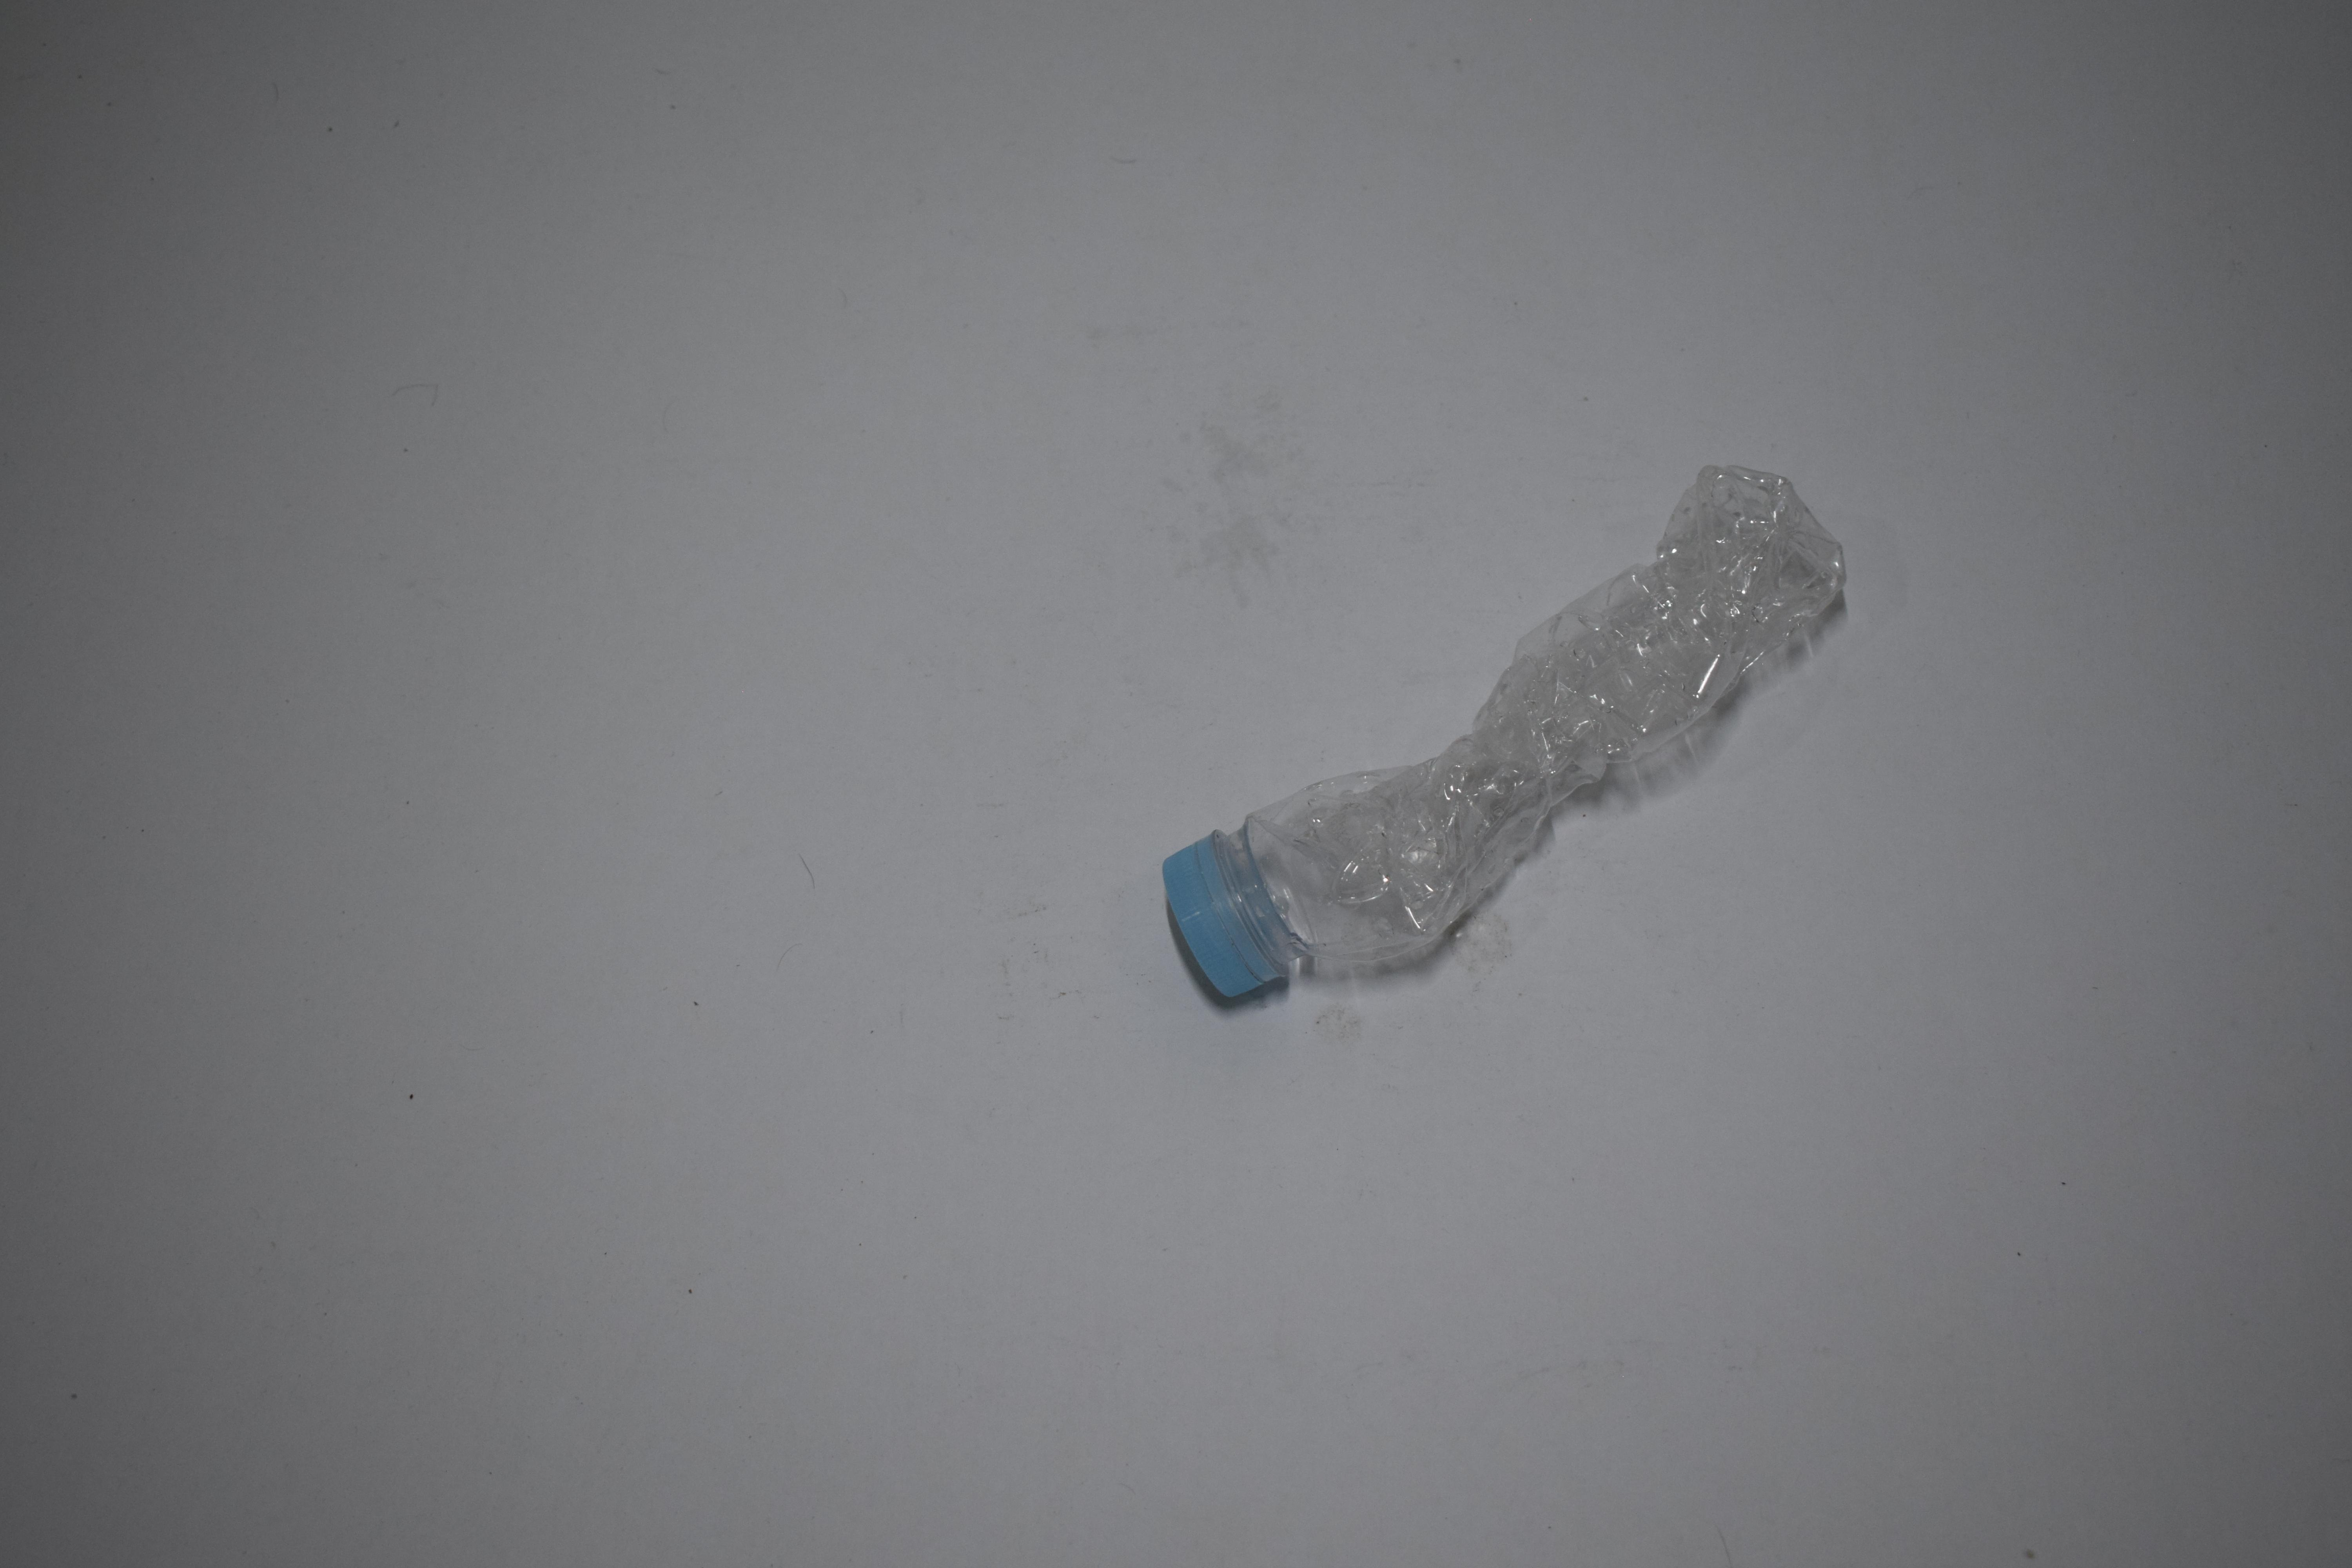bottle: (1153, 451, 1855, 1019)
